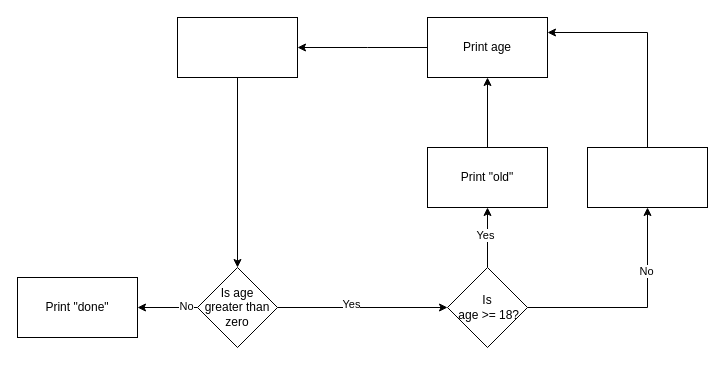
Some shapes in this 725 by 365 pixel diagram are drawn without their labels. The shapes that lost their labels are listed below. From the top down, each one's box as (x1, y1, x2, y2) in pixels, then its label:
(176, 16, 298, 78): Ask a user for their age and store in a variable
(586, 146, 708, 208): Print "young"
